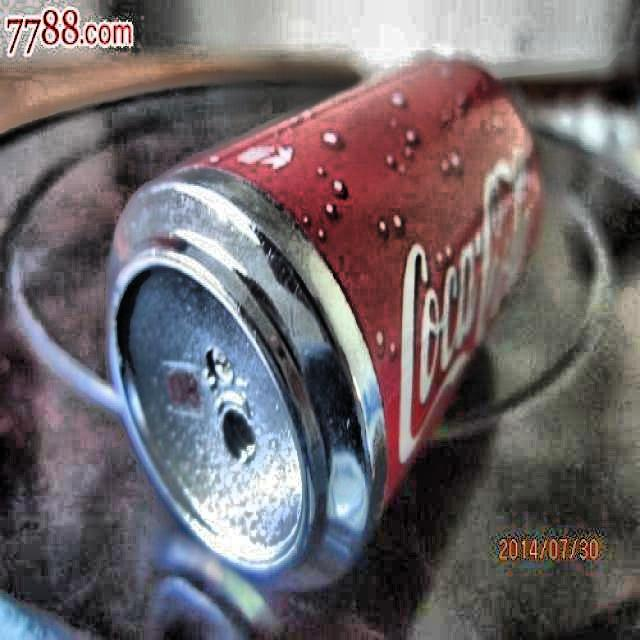can: (98, 42, 559, 594)
